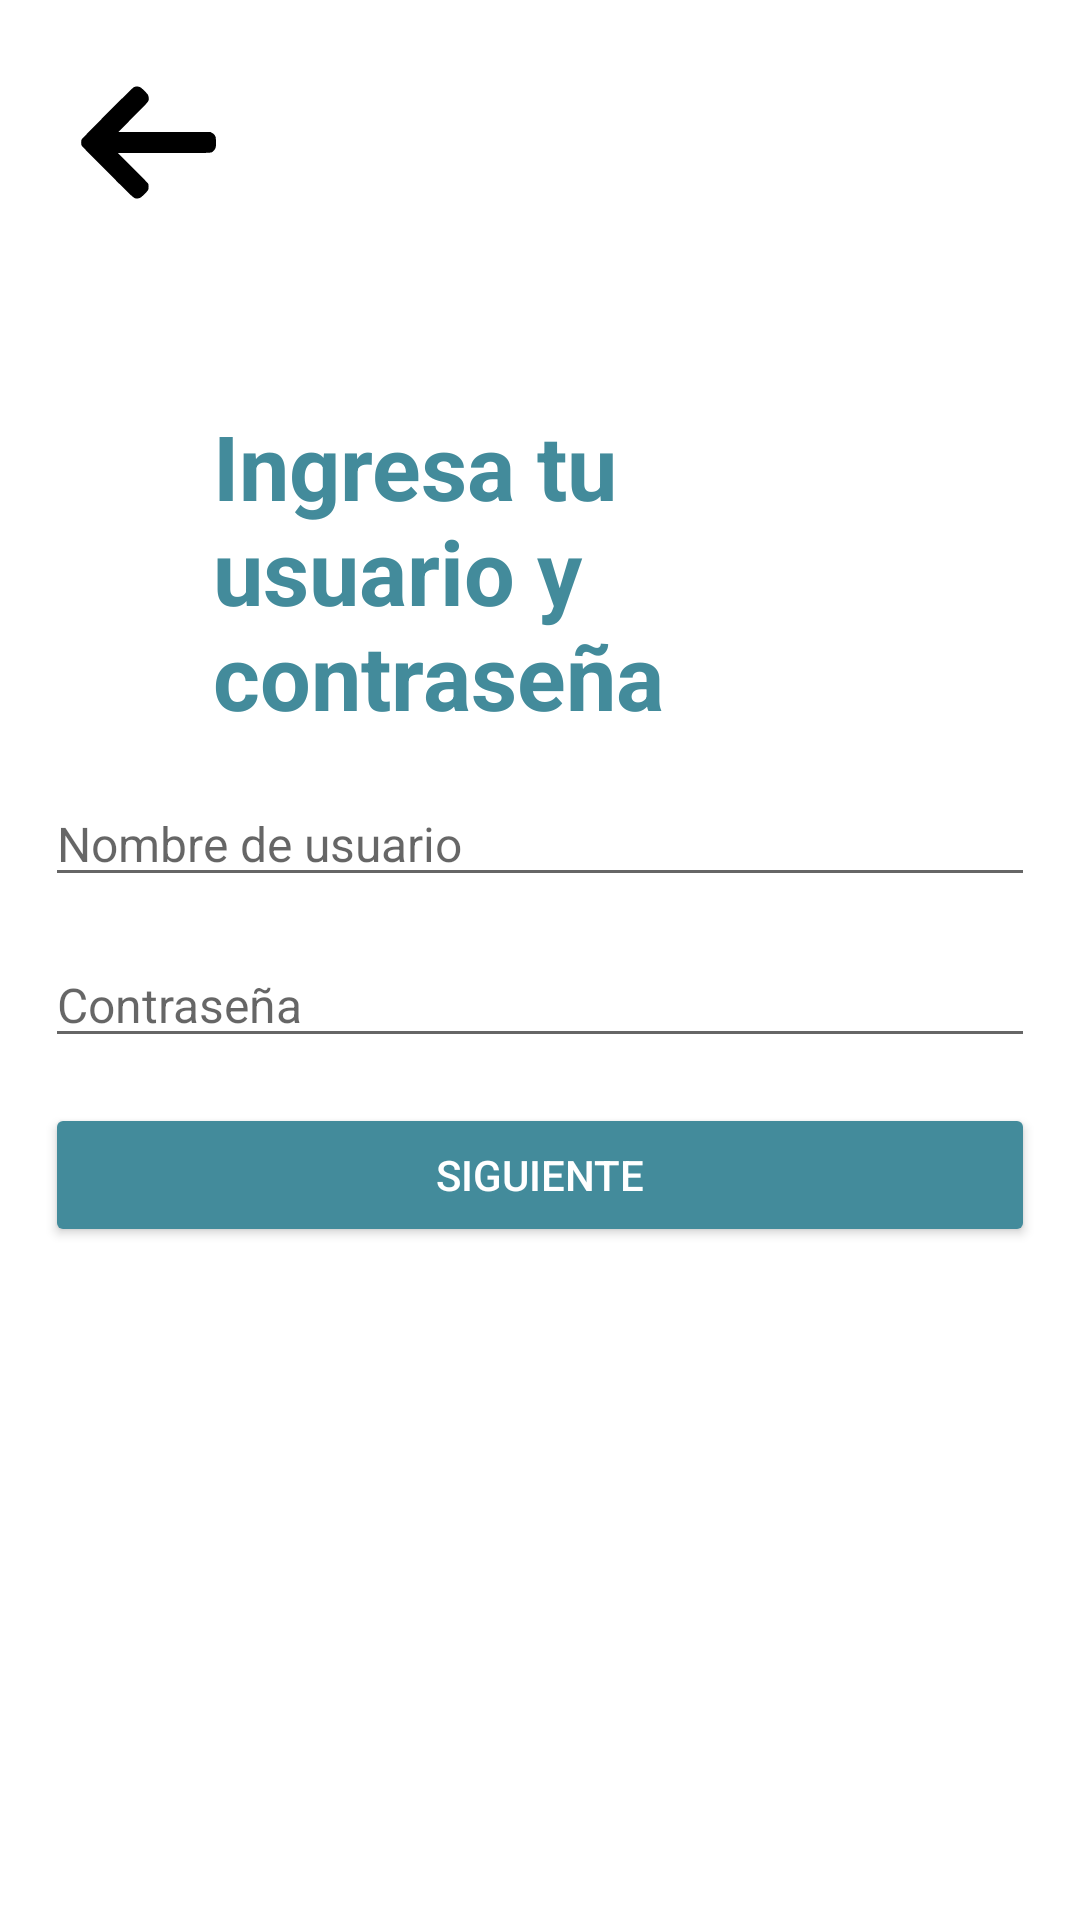

Screen size 1080×1920. Icon name, then its box in pixels as (x1, y1, x2, y2):
back: (81, 86, 216, 199)
